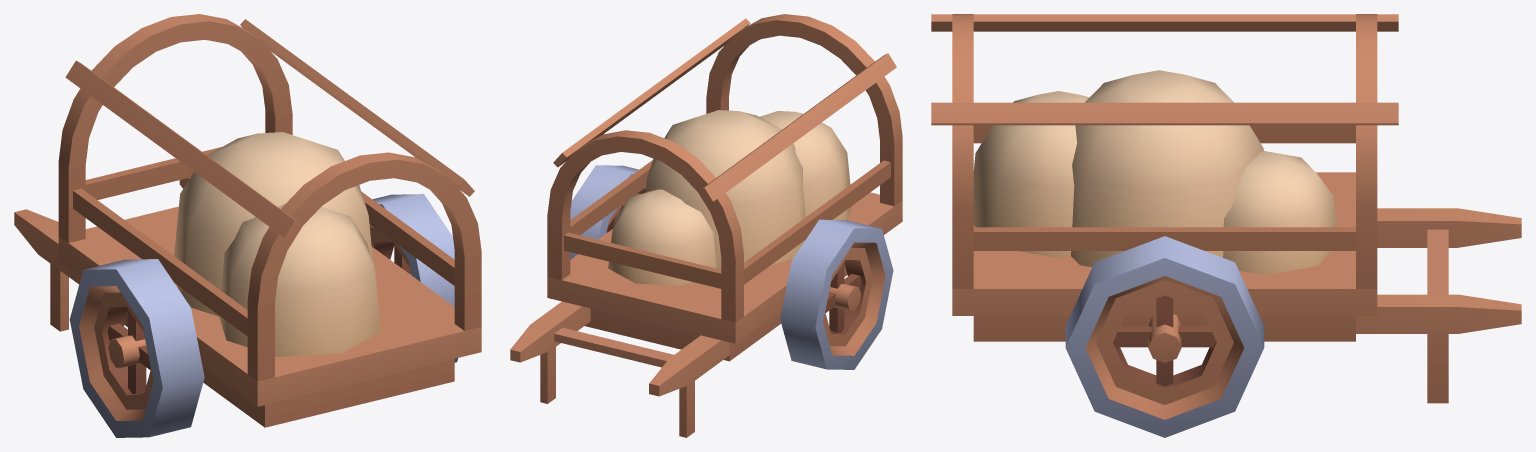
Rendered from cart_high.glb.
3 views of the same model, side by side, from view 1: azimuth 30°, elevation 25°; view 2: azimuth 150°, elevation 25°; view 3: azimuth 270°, elevation 25° (orthographic). The views are drawn at different scales.
Parts seen in each view (by area): view 1: cart-high, Group (×2); view 2: cart-high, Group (×2); view 3: cart-high, Group.
Part boxes in pixels (x1,y1,x2,y2): cart-high: [14, 14, 481, 427]; Group (×2): [69, 194, 457, 437]; cart-high: [510, 14, 902, 437]; Group (×2): [570, 165, 893, 369]; cart-high: [931, 14, 1521, 403]; Group: [1065, 236, 1264, 437].
Bounding box in the file's own units: 0.893 × 0.8605 × 1.39.
1 material, 1 textured.
